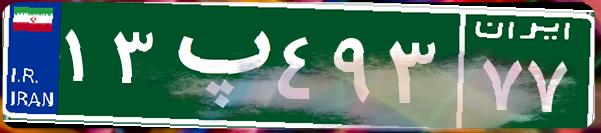1: (57, 26, 110, 107)
3: (385, 28, 445, 110), (110, 28, 158, 105)
4: (273, 28, 330, 110)
7: (475, 38, 525, 113), (525, 38, 570, 115)
9: (330, 28, 385, 110)
پ: (158, 15, 273, 115)
